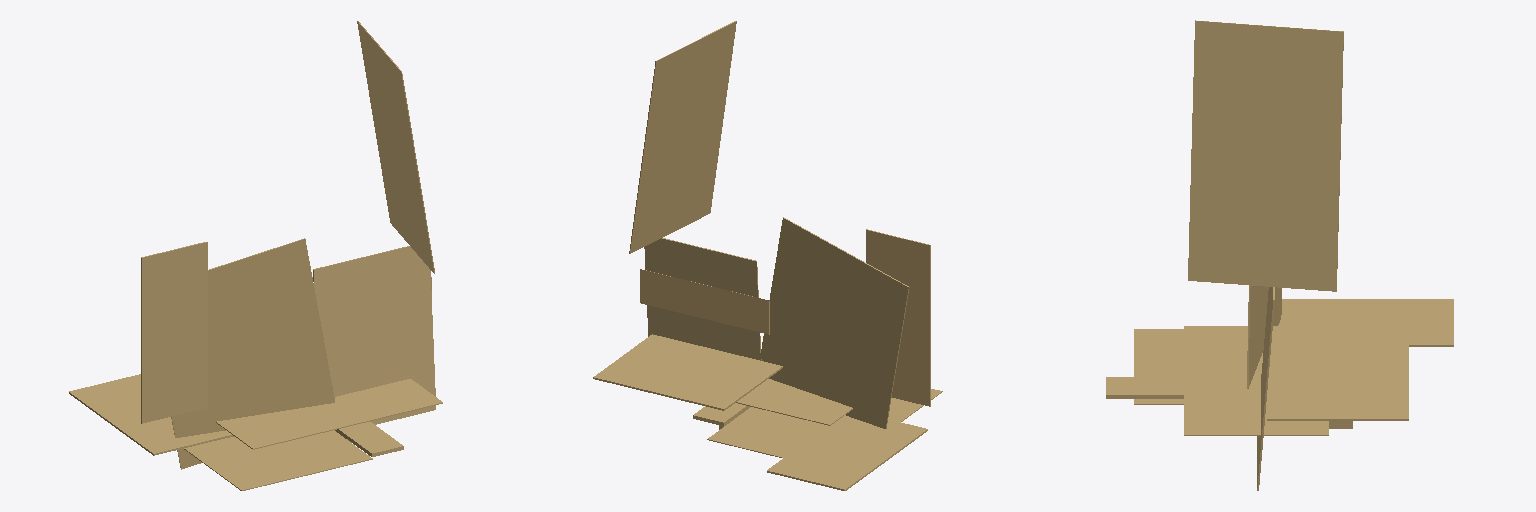
The robot description file, URDF, robot "evolved_design":
<?xml version="1.0" ?>
<robot name="evolved_design">
  <link name="base_link">
    <inertial>
      <mass value="0.001"/>
      <origin xyz="0 0 0" rpy="0 0 0"/>
      <inertia ixx="0.000001" ixy="0" ixz="0" iyy="0.000001" iyz="0" izz="0.000001"/>
    </inertial>
  </link>
  <link name="link_comp_0">
    <inertial>
      <mass value="0.601137"/>
      <origin xyz="0 0 0" rpy="0 0 0"/>
      <inertia ixx="0.009528798" ixy="0" ixz="0" iyy="0.000623806" iyz="0" izz="0.008941351"/>
    </inertial>
    <visual>
      <origin xyz="0 0 0" rpy="0 0 0"/>
      <geometry>
        <box size="0.019050 0.422050 0.109953"/>
      </geometry>
      <material name="link_comp_0_material">
        <color rgba="0.8 0.7 0.5 1"/>
      </material>
    </visual>
    <collision>
      <origin xyz="0 0 0" rpy="0 0 0"/>
      <geometry>
        <box size="0.019050 0.422050 0.109953"/>
      </geometry>
    </collision>
  </link>
  <joint name="base_link_to_link_comp_0" type="fixed">
    <parent link="base_link"/>
    <child link="link_comp_0"/>
    <origin xyz="0.009525 0.211025 0.054976" rpy="0.000000 0.000000 0.000000"/>
  </joint>
  <link name="link_comp_1">
    <inertial>
      <mass value="0.719914"/>
      <origin xyz="0 0 0" rpy="0 0 0"/>
      <inertia ixx="0.029328554" ixy="0" ixz="0" iyy="0.013645577" iyz="0" izz="0.042972921"/>
    </inertial>
    <visual>
      <origin xyz="0 0 0" rpy="0 0 0"/>
      <geometry>
        <box size="0.476910 0.699184 0.003175"/>
      </geometry>
      <material name="link_comp_1_material">
        <color rgba="0.8 0.7 0.5 1"/>
      </material>
    </visual>
    <collision>
      <origin xyz="0 0 0" rpy="0 0 0"/>
      <geometry>
        <box size="0.476910 0.699184 0.003175"/>
      </geometry>
    </collision>
  </link>
  <joint name="base_link_to_link_comp_1" type="fixed">
    <parent link="base_link"/>
    <child link="link_comp_1"/>
    <origin xyz="-0.238955 0.183647 0.062099" rpy="0.000000 0.000000 0.000000"/>
  </joint>
  <link name="link_comp_2">
    <inertial>
      <mass value="0.752391"/>
      <origin xyz="0 0 0" rpy="0 0 0"/>
      <inertia ixx="0.035443700" ixy="0" ixz="0" iyy="0.000852228" iyz="0" izz="0.036275702"/>
    </inertial>
    <visual>
      <origin xyz="0 0 0" rpy="0 0 0"/>
      <geometry>
        <box size="0.115892 0.751755 0.012700"/>
      </geometry>
      <material name="link_comp_2_material">
        <color rgba="0.8 0.7 0.5 1"/>
      </material>
    </visual>
    <collision>
      <origin xyz="0 0 0" rpy="0 0 0"/>
      <geometry>
        <box size="0.115892 0.751755 0.012700"/>
      </geometry>
    </collision>
  </link>
  <joint name="base_link_to_link_comp_2" type="fixed">
    <parent link="base_link"/>
    <child link="link_comp_2"/>
    <origin xyz="0.009355 0.131930 0.116803" rpy="0.000000 0.000000 0.000000"/>
  </joint>
  <link name="link_comp_3">
    <inertial>
      <mass value="0.775319"/>
      <origin xyz="0 0 0" rpy="0 0 0"/>
      <inertia ixx="0.020982424" ixy="0" ixz="0" iyy="0.032445728" iyz="0" izz="0.011466219"/>
    </inertial>
    <visual>
      <origin xyz="0 0 0" rpy="0 0 0"/>
      <geometry>
        <box size="0.421243 0.004750 0.569853"/>
      </geometry>
      <material name="link_comp_3_material">
        <color rgba="0.8 0.7 0.5 1"/>
      </material>
    </visual>
    <collision>
      <origin xyz="0 0 0" rpy="0 0 0"/>
      <geometry>
        <box size="0.421243 0.004750 0.569853"/>
      </geometry>
    </collision>
  </link>
  <joint name="base_link_to_link_comp_3" type="fixed">
    <parent link="base_link"/>
    <child link="link_comp_3"/>
    <origin xyz="0.210622 0.188619 0.284927" rpy="-0.076296 0.000000 0.000000"/>
  </joint>
  <link name="link_comp_4">
    <inertial>
      <mass value="1.135613"/>
      <origin xyz="0 0 0" rpy="0 0 0"/>
      <inertia ixx="0.040640646" ixy="0" ixz="0" iyy="0.067881395" iyz="0" izz="0.027245019"/>
    </inertial>
    <visual>
      <origin xyz="0 0 0" rpy="0 0 0"/>
      <geometry>
        <box size="0.536540 0.004750 0.655306"/>
      </geometry>
      <material name="link_comp_4_material">
        <color rgba="0.8 0.7 0.5 1"/>
      </material>
    </visual>
    <collision>
      <origin xyz="0 0 0" rpy="0 0 0"/>
      <geometry>
        <box size="0.536540 0.004750 0.655306"/>
      </geometry>
    </collision>
  </link>
  <joint name="base_link_to_link_comp_4" type="fixed">
    <parent link="base_link"/>
    <child link="link_comp_4"/>
    <origin xyz="-0.268770 0.187813 0.347075" rpy="0.008972 -0.173221 -0.166623"/>
  </joint>
  <link name="link_comp_5">
    <inertial>
      <mass value="0.805765"/>
      <origin xyz="0 0 0" rpy="0 0 0"/>
      <inertia ixx="0.009749813" ixy="0" ixz="0" iyy="0.016110251" iyz="0" izz="0.025854649"/>
    </inertial>
    <visual>
      <origin xyz="0 0 0" rpy="0 0 0"/>
      <geometry>
        <box size="0.489780 0.380999 0.006350"/>
      </geometry>
      <material name="link_comp_5_material">
        <color rgba="0.8 0.7 0.5 1"/>
      </material>
    </visual>
    <collision>
      <origin xyz="0 0 0" rpy="0 0 0"/>
      <geometry>
        <box size="0.489780 0.380999 0.006350"/>
      </geometry>
    </collision>
  </link>
  <joint name="base_link_to_link_comp_5" type="fixed">
    <parent link="base_link"/>
    <child link="link_comp_5"/>
    <origin xyz="0.157400 0.381994 0.203558" rpy="0.000000 0.000000 0.000000"/>
  </joint>
  <link name="link_comp_6">
    <inertial>
      <mass value="0.641104"/>
      <origin xyz="0 0 0" rpy="0 0 0"/>
      <inertia ixx="0.037302975" ixy="0" ixz="0" iyy="0.028460161" iyz="0" izz="0.008843891"/>
    </inertial>
    <visual>
      <origin xyz="0 0 0" rpy="0 0 0"/>
      <geometry>
        <box size="0.003175 0.406851 0.729862"/>
      </geometry>
      <material name="link_comp_6_material">
        <color rgba="0.8 0.7 0.5 1"/>
      </material>
    </visual>
    <collision>
      <origin xyz="0 0 0" rpy="0 0 0"/>
      <geometry>
        <box size="0.003175 0.406851 0.729862"/>
      </geometry>
    </collision>
  </link>
  <joint name="base_link_to_link_comp_6" type="fixed">
    <parent link="base_link"/>
    <child link="link_comp_6"/>
    <origin xyz="0.288785 0.188091 0.935285" rpy="0.000000 -0.153479 -0.174028"/>
  </joint>
  <link name="link_comp_7">
    <inertial>
      <mass value="0.630815"/>
      <origin xyz="0 0 0" rpy="0 0 0"/>
      <inertia ixx="0.008021506" ixy="0" ixz="0" iyy="0.025216287" iyz="0" izz="0.033236557"/>
    </inertial>
    <visual>
      <origin xyz="0 0 0" rpy="0 0 0"/>
      <geometry>
        <box size="0.692588 0.390617 0.003429"/>
      </geometry>
      <material name="link_comp_7_material">
        <color rgba="0.8 0.7 0.5 1"/>
      </material>
    </visual>
    <collision>
      <origin xyz="0 0 0" rpy="0 0 0"/>
      <geometry>
        <box size="0.692588 0.390617 0.003429"/>
      </geometry>
    </collision>
  </link>
  <joint name="base_link_to_link_comp_7" type="fixed">
    <parent link="base_link"/>
    <child link="link_comp_7"/>
    <origin xyz="-0.012932 0.162966 0.125367" rpy="0.000000 0.000000 0.000000"/>
  </joint>
  <link name="link_comp_8">
    <inertial>
      <mass value="0.447775"/>
      <origin xyz="0 0 0" rpy="0 0 0"/>
      <inertia ixx="0.012396450" ixy="0" ixz="0" iyy="0.014554545" iyz="0" izz="0.002159779"/>
    </inertial>
    <visual>
      <origin xyz="0 0 0" rpy="0 0 0"/>
      <geometry>
        <box size="0.240536 0.004750 0.576361"/>
      </geometry>
      <material name="link_comp_8_material">
        <color rgba="0.8 0.7 0.5 1"/>
      </material>
    </visual>
    <collision>
      <origin xyz="0 0 0" rpy="0 0 0"/>
      <geometry>
        <box size="0.240536 0.004750 0.576361"/>
      </geometry>
    </collision>
  </link>
  <joint name="base_link_to_link_comp_8" type="fixed">
    <parent link="base_link"/>
    <child link="link_comp_8"/>
    <origin xyz="-0.517662 0.190276 0.478395" rpy="0.000000 0.000000 0.000000"/>
  </joint>
  <link name="link_comp_9">
    <inertial>
      <mass value="0.040015"/>
      <origin xyz="0 0 0" rpy="0 0 0"/>
      <inertia ixx="0.000049658" ixy="0" ixz="0" iyy="0.000825083" iyz="0" izz="0.000775431"/>
    </inertial>
    <visual>
      <origin xyz="0 0 0" rpy="0 0 0"/>
      <geometry>
        <box size="0.482226 0.001000 0.122029"/>
      </geometry>
      <material name="link_comp_9_material">
        <color rgba="0.8 0.7 0.5 1"/>
      </material>
    </visual>
    <collision>
      <origin xyz="0 0 0" rpy="0 0 0"/>
      <geometry>
        <box size="0.482226 0.001000 0.122029"/>
      </geometry>
    </collision>
  </link>
  <joint name="base_link_to_link_comp_9" type="fixed">
    <parent link="base_link"/>
    <child link="link_comp_9"/>
    <origin xyz="0.191403 0.214956 0.380747" rpy="0.000000 0.000000 0.000000"/>
  </joint>
  <link name="link_comp_10">
    <inertial>
      <mass value="0.681705"/>
      <origin xyz="0 0 0" rpy="0 0 0"/>
      <inertia ixx="0.016380963" ixy="0" ixz="0" iyy="0.004913390" iyz="0" izz="0.021289772"/>
    </inertial>
    <visual>
      <origin xyz="0 0 0" rpy="0 0 0"/>
      <geometry>
        <box size="0.294023 0.536947 0.006350"/>
      </geometry>
      <material name="link_comp_10_material">
        <color rgba="0.8 0.7 0.5 1"/>
      </material>
    </visual>
    <collision>
      <origin xyz="0 0 0" rpy="0 0 0"/>
      <geometry>
        <box size="0.294023 0.536947 0.006350"/>
      </geometry>
    </collision>
  </link>
  <joint name="base_link_to_link_comp_10" type="fixed">
    <parent link="base_link"/>
    <child link="link_comp_10"/>
    <origin xyz="-0.463609 0.427298 0.087714" rpy="0.000000 0.000000 0.000000"/>
  </joint>
</robot>

--- What the picture shows (computed from the rendered views, not written in the file) ---
The picture shows the robot from 3 angles, left to right: view 1: azimuth 30°, elevation 25°; view 2: azimuth 150°, elevation 25°; view 3: azimuth 270°, elevation 25°; orthographic projection.
Model evolved_design with 12 links and 11 joints (11 fixed), rooted at base_link, posed all joints at 0.
Links seen in each view (by area): view 1: link_comp_4, link_comp_3, link_comp_8, link_comp_6, link_comp_7, link_comp_1, link_comp_10, link_comp_2; view 2: link_comp_4, link_comp_6, link_comp_5, link_comp_3, link_comp_8, link_comp_10, link_comp_9, link_comp_1, link_comp_7, link_comp_2; view 3: link_comp_6, link_comp_5, link_comp_7, link_comp_10, link_comp_1, link_comp_4, link_comp_2, link_comp_3.
Boxes of the visible links, x1,y1,x2,y2 form: link_comp_4: (171, 238, 334, 469); link_comp_3: (313, 246, 435, 424); link_comp_8: (141, 242, 207, 423); link_comp_6: (357, 21, 434, 273); link_comp_7: (216, 379, 442, 449); link_comp_1: (184, 430, 372, 490); link_comp_10: (69, 374, 232, 455); link_comp_2: (335, 422, 403, 456); link_comp_4: (761, 217, 909, 428); link_comp_6: (629, 21, 736, 253); link_comp_5: (593, 334, 782, 410); link_comp_3: (644, 238, 761, 360); link_comp_8: (866, 229, 930, 406); link_comp_10: (767, 415, 927, 490); link_comp_9: (640, 269, 769, 334); link_comp_1: (707, 389, 942, 457); link_comp_7: (736, 379, 852, 425); link_comp_2: (693, 403, 749, 425); link_comp_6: (1188, 20, 1343, 291); link_comp_5: (1267, 342, 1408, 420); link_comp_7: (1184, 326, 1328, 435); link_comp_10: (1278, 299, 1453, 346); link_comp_1: (1134, 329, 1183, 404); link_comp_4: (1247, 285, 1281, 388); link_comp_2: (1106, 377, 1183, 398); link_comp_3: (1257, 287, 1274, 490).
Bounding box of the posed robot: 1.07 × 0.9397 × 1.32 m (x, y, z).
Geometry: primitives only (box / cylinder / sphere), no mesh files.